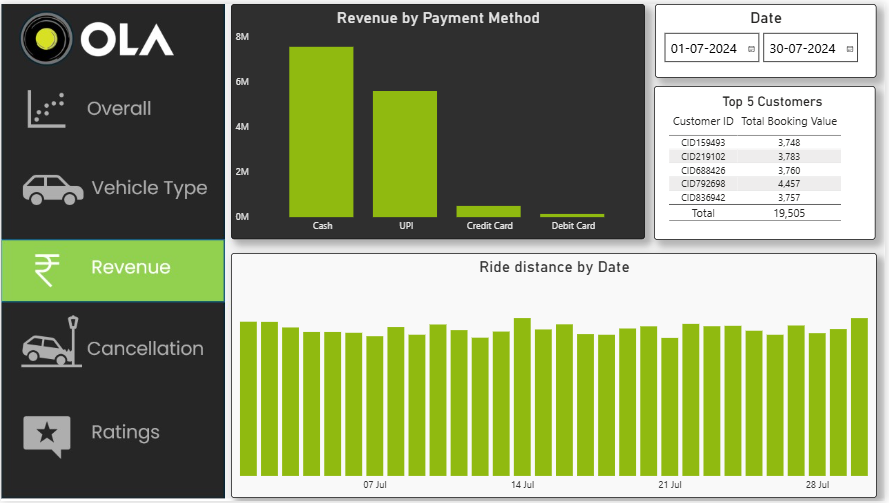

The dashboard page shown, as its layout file describes it:
{"tool":"powerbi","page":{"name":"Revenue","canvas":[1280,720],"ordinal":2},"visuals":[{"type":"actionButton","box":[0,341.3,324.8,92.2],"z":0},{"type":"actionButton","box":[0,107.4,324.8,101.8],"z":1000},{"type":"actionButton","box":[0,107.4,324.8,101.8],"z":2000},{"type":"actionButton","box":[0,209.2,324.8,108.7],"z":3000},{"type":"actionButton","box":[0,450.1,324.8,104.6],"z":4000},{"type":"actionButton","box":[0,107.4,324.8,101.8],"z":5000},{"type":"actionButton","box":[0,575.3,324.8,117],"z":6000},{"type":"columnChart","title":"Revenue by Payment Method","fields":{"Y":["Sum(OLA Bookings-40000-Rows(July).Booking_Value)"],"Category":["OLA Bookings-40000-Rows(July).Payment_Method"]},"box":[333.6,0,599.5,340.9],"z":7000},{"type":"columnChart","title":"Ride distance by Date","fields":{"Y":["Sum(OLA Bookings-40000-Rows(July).Ride_Distance)"],"Category":["OLA Bookings-40000-Rows(July).Date"]},"box":[333.1,360.6,935.9,355.1],"z":8000},{"type":"slicer","title":"Date","fields":{"Values":["OLA Bookings-40000-Rows(July).Date"]},"box":[948.3,0,320.7,107.4],"z":9000},{"type":"tableEx","title":"Top 5 Customers","fields":{"Values":["OLA Bookings-40000-Rows(July).Customer_ID","Sum(OLA Bookings-40000-Rows(July).Booking_Value)"]},"box":[946.9,118.4,320.7,223],"z":10000}]}

Visuals, with their boxes in screenshot pixels (x1, y1, x2, y2), scaled from the page's 1280x720 canvas onto the 889x503 screenshot:
actionButton: rect(0, 238, 226, 303)
actionButton: rect(0, 75, 226, 146)
actionButton: rect(0, 75, 226, 146)
actionButton: rect(0, 146, 226, 222)
actionButton: rect(0, 314, 226, 388)
actionButton: rect(0, 75, 226, 146)
actionButton: rect(0, 402, 226, 484)
"Revenue by Payment Method" columnChart: rect(232, 0, 648, 238)
"Ride distance by Date" columnChart: rect(231, 252, 881, 500)
"Date" slicer: rect(659, 0, 881, 75)
"Top 5 Customers" tableEx: rect(658, 83, 880, 239)
